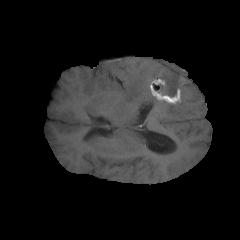glioma: (120, 64, 198, 114)
